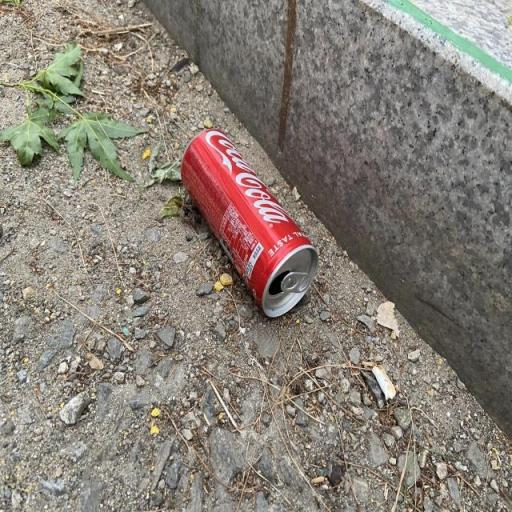metal: (169, 118, 331, 340)
